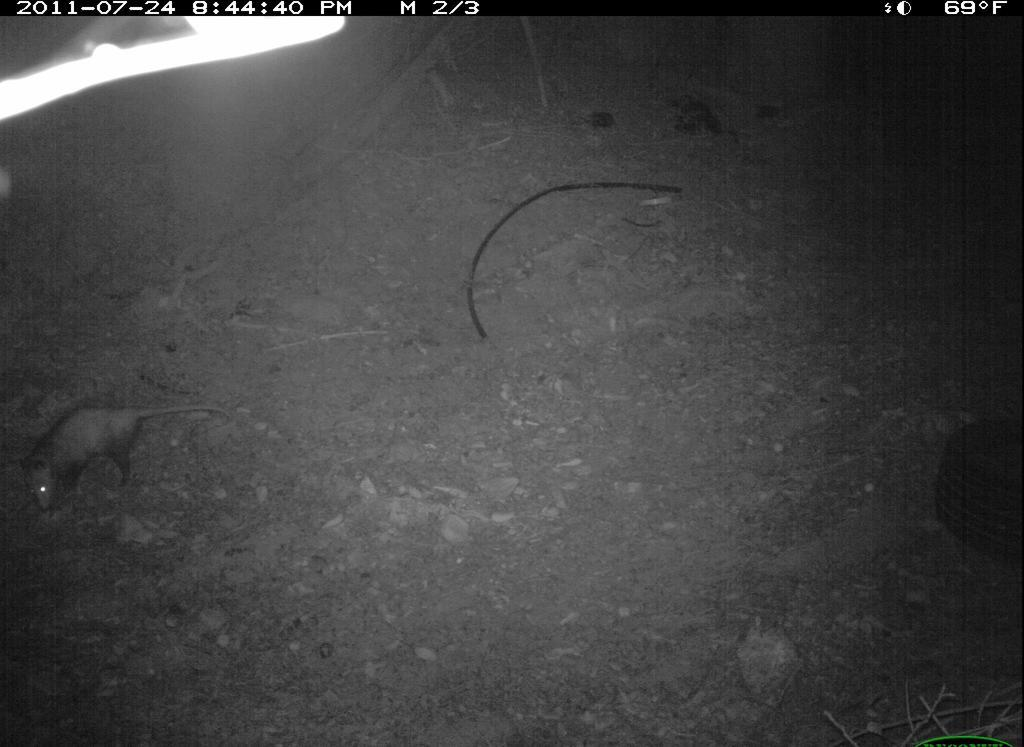opossum: (22, 401, 246, 523)
